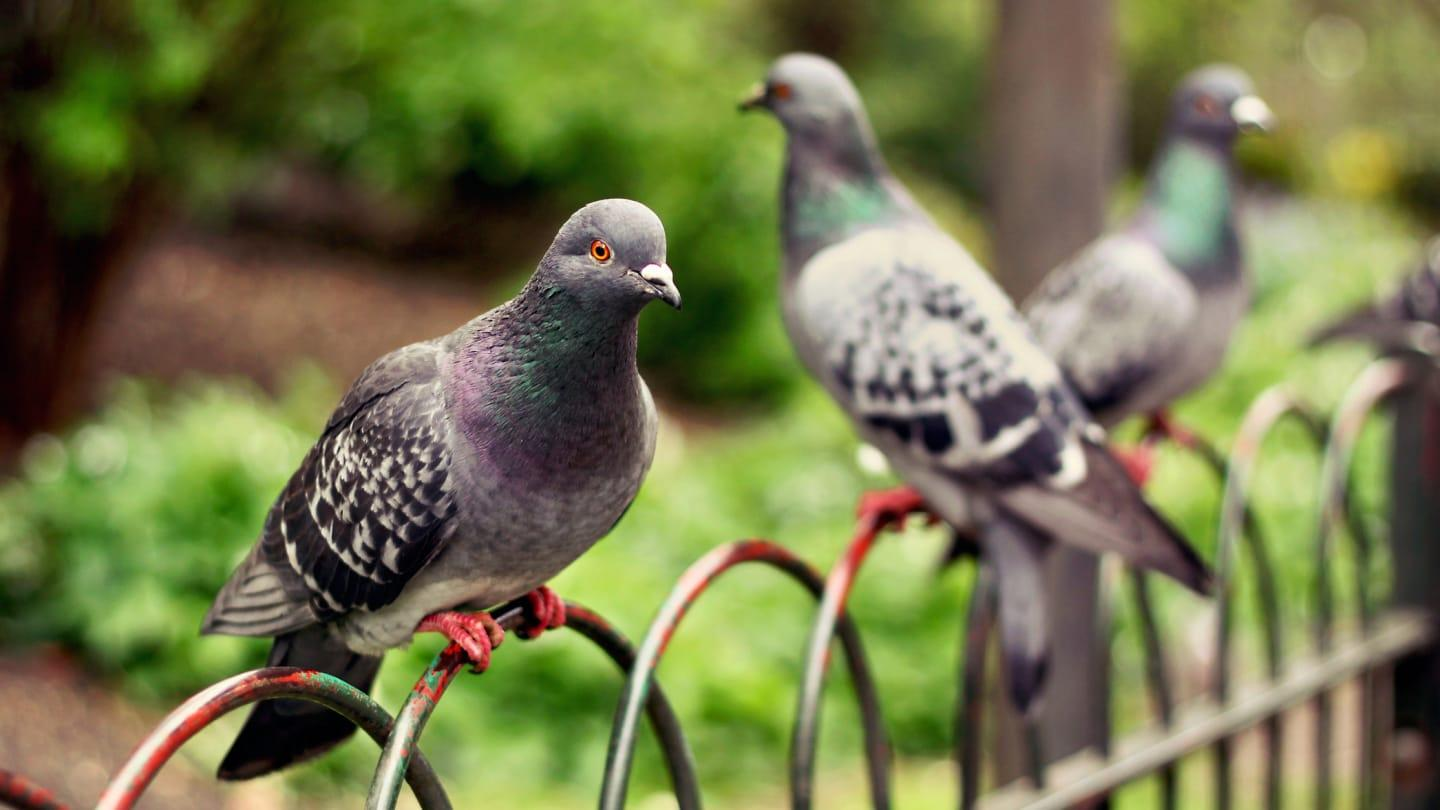Flying Rat: (211, 192, 666, 774), (740, 61, 1070, 590), (1042, 50, 1305, 488)
